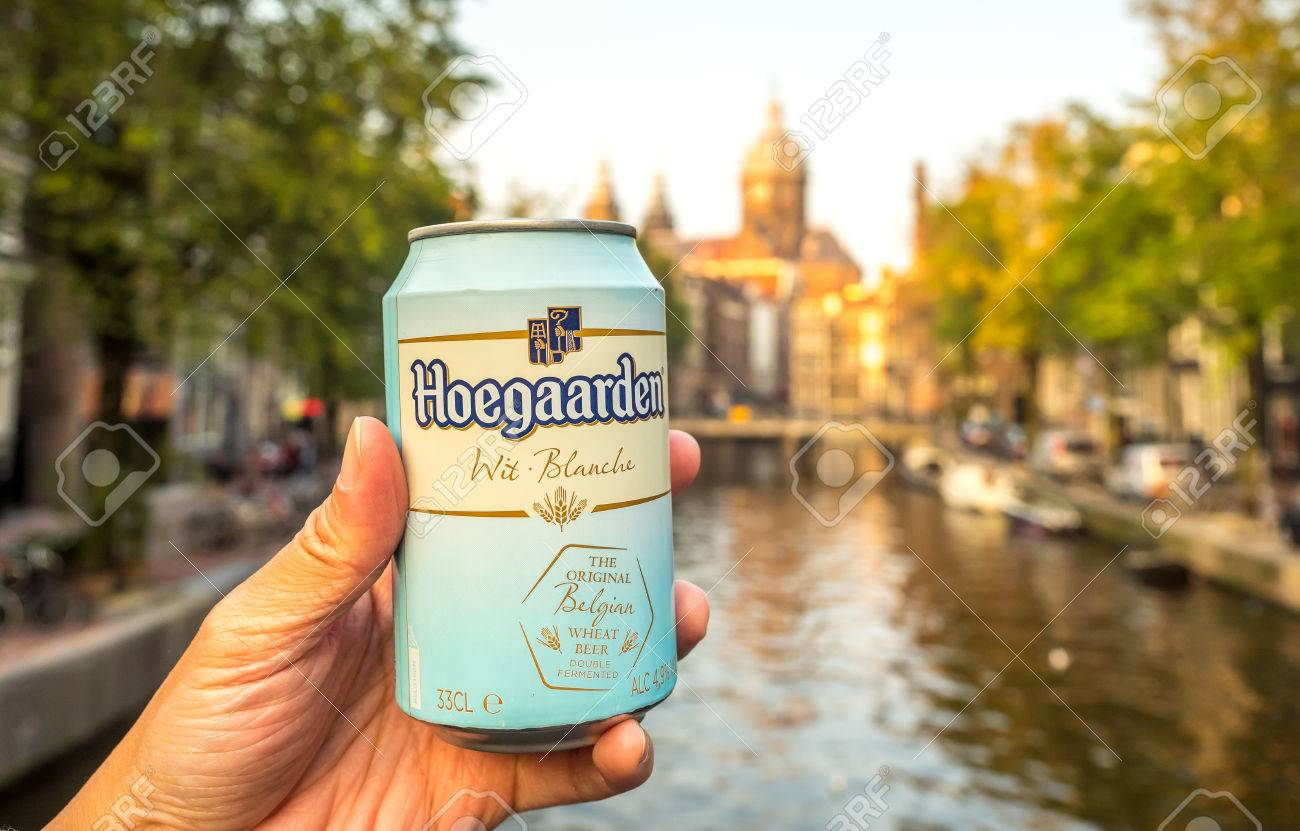beer can: (377, 219, 677, 749)
